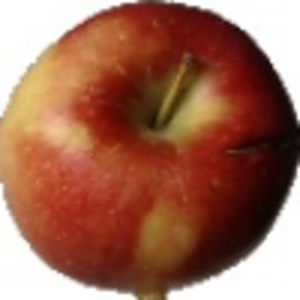maçã braeburn: (1, 1, 300, 294)
